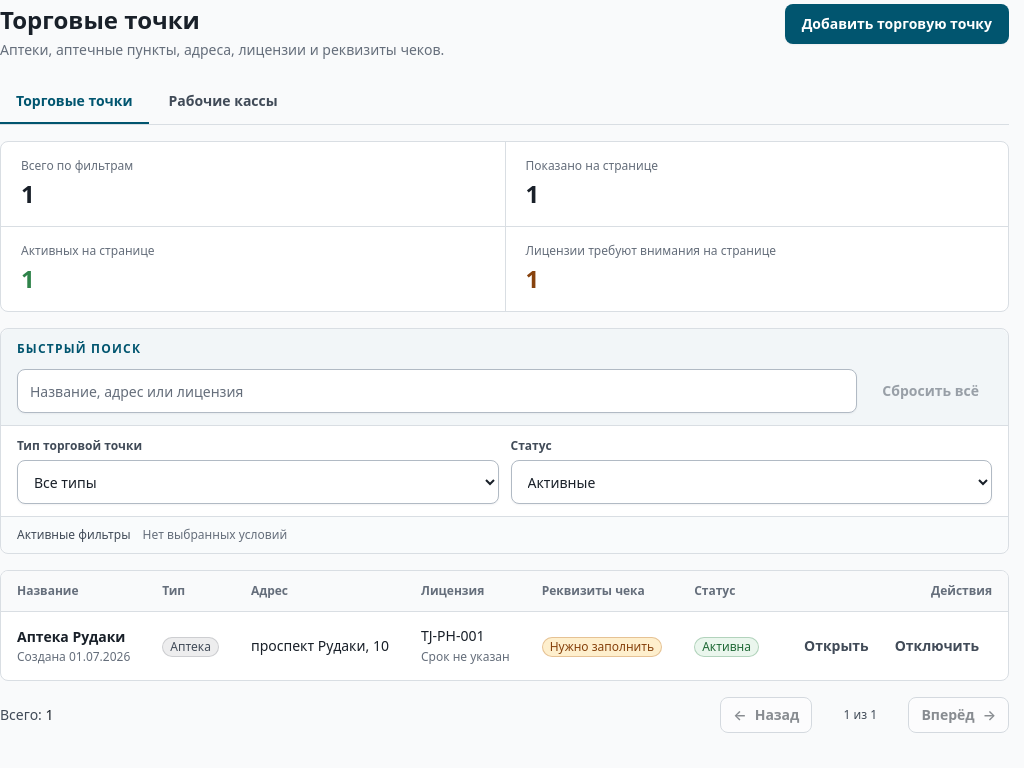
management list filters › warns before discarding a new trading point
The image size is (1024, 768).
Expected: the text "Аптека Рудаки" is shown, [17, 627, 130, 647]
Click the button "Добавить торговую точку": (897, 24) [785, 4, 1009, 44]
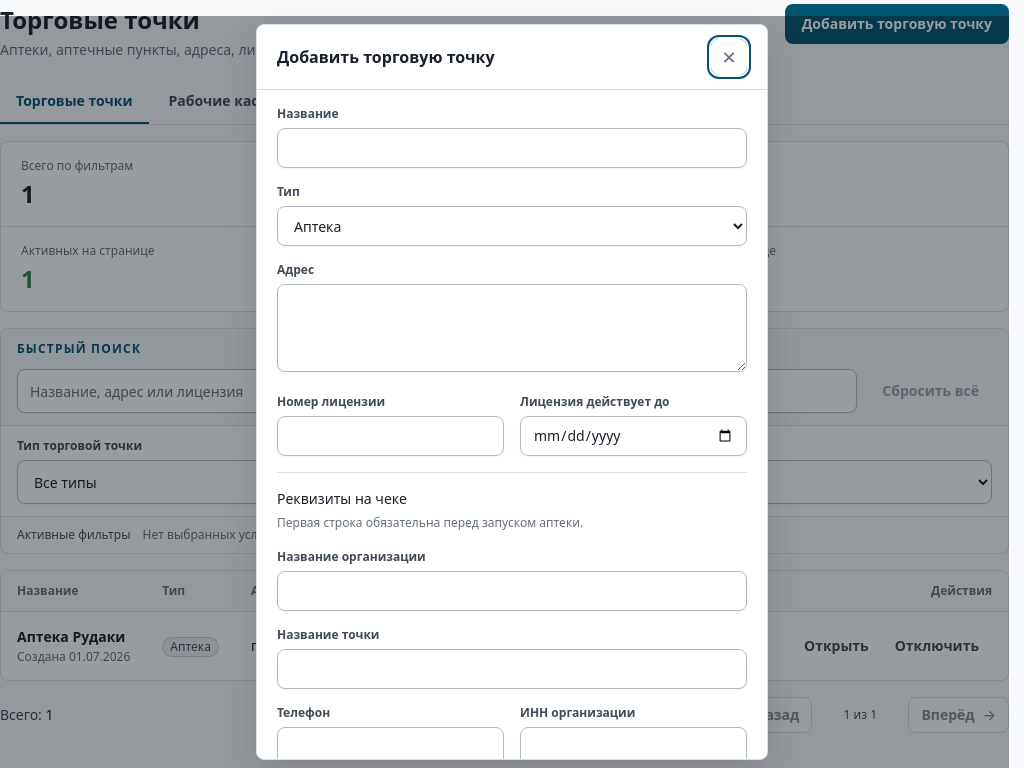
In the field labelled "Название": (512, 148) [277, 128, 747, 168], type "Аптека Сомони"
(page scrolled)
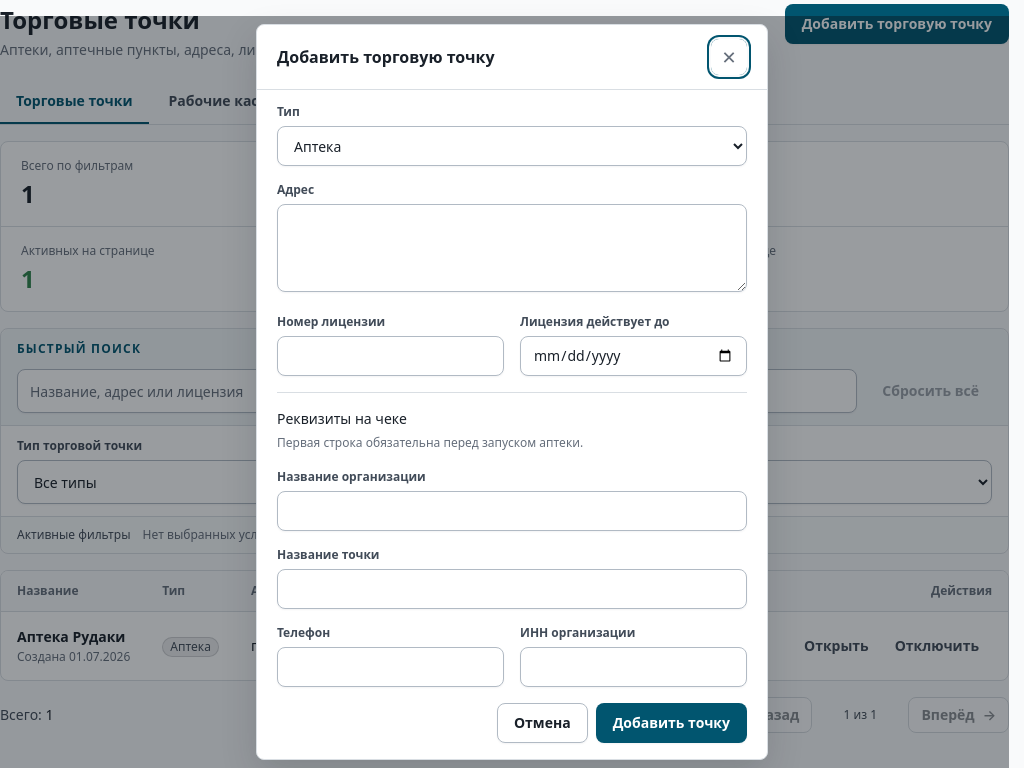
Click the button "Отмена": (542, 723) [497, 703, 588, 743]
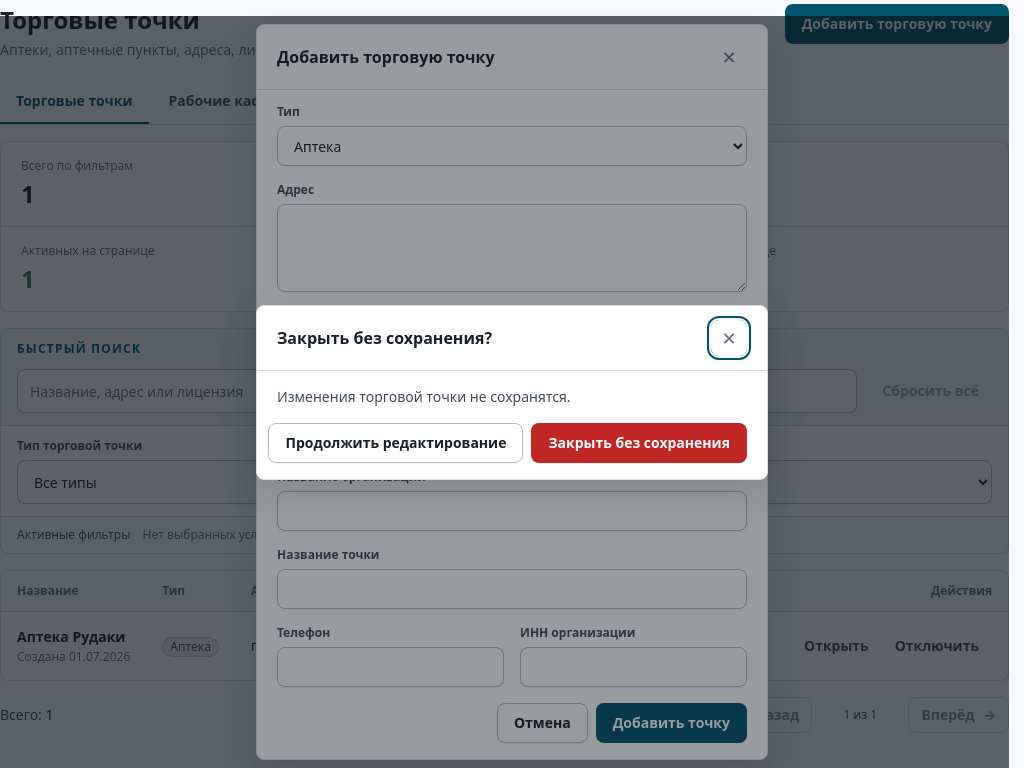
Now the dialog "Добавить торговую точку" is shown, box [256, 24, 768, 760]
Now the dialog "Закрыть без сохранения?" is shown, box [256, 304, 768, 480]
